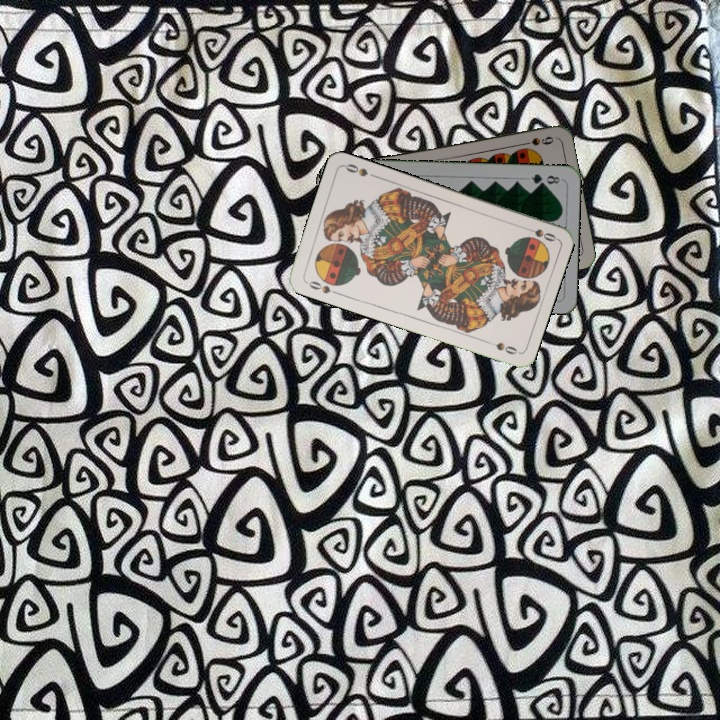G8: (527, 170, 562, 188)
S9: (516, 132, 556, 148)
SO: (519, 223, 559, 244), (302, 277, 341, 297)
